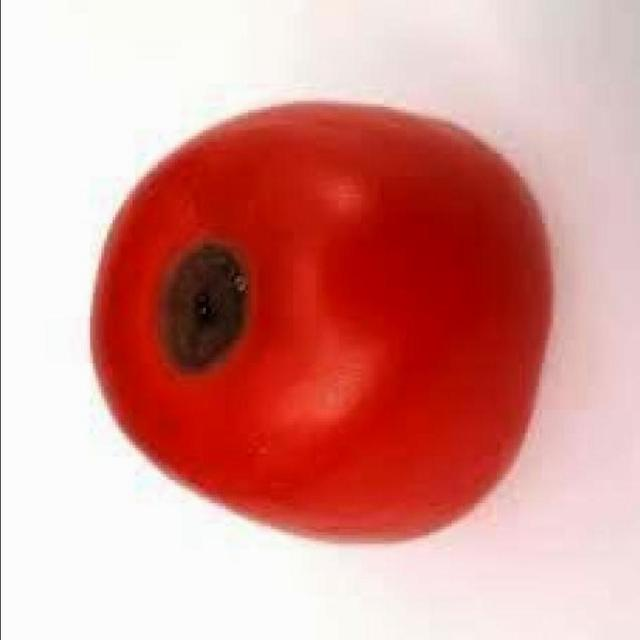Blossom End Rot Fruit: (93, 155, 169, 264)
